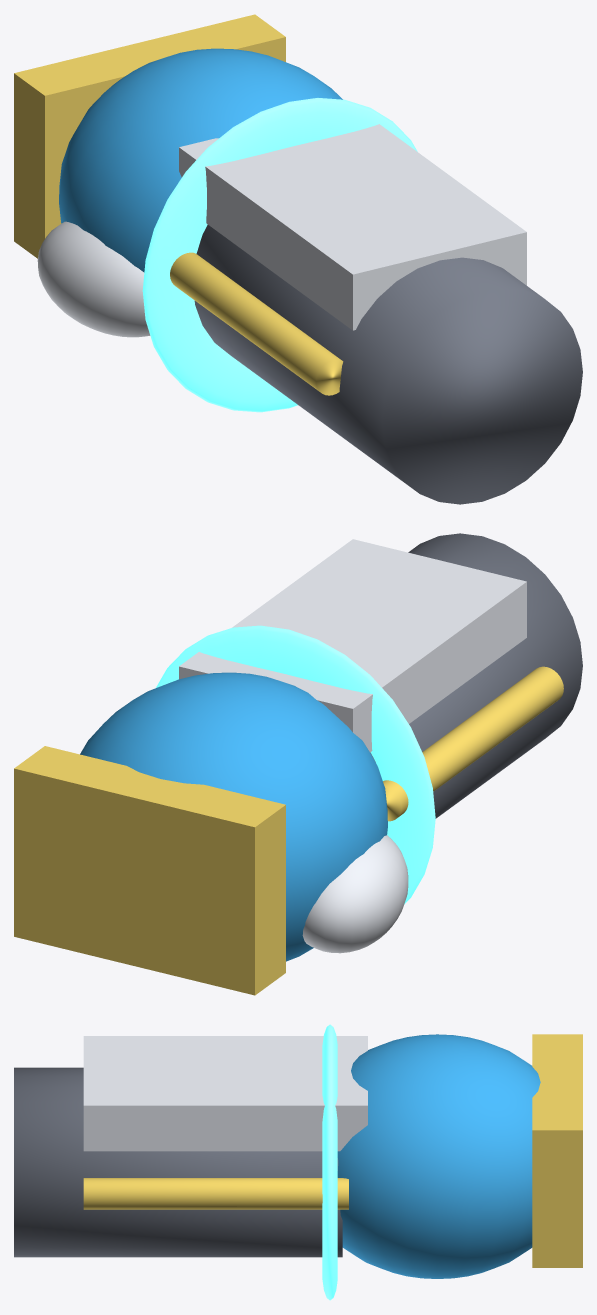
File: puno_jugador.glb
The picture shows the model from 3 angles, top to bottom: view 1: azimuth 30°, elevation 25°; view 2: azimuth 150°, elevation 25°; view 3: azimuth 270°, elevation 25°; orthographic projection. The views are drawn at different scales.
Parts seen in each view (by area): view 1: Antebrazo, Placa_Sup, Guante_Cuerpo, Anillo_Neon, Nudillos_Oro, Pulgar_Guante, Piston_-1; view 2: Nudillos_Oro, Guante_Cuerpo, Placa_Sup, Antebrazo, Anillo_Neon, Pulgar_Guante, Piston_-1; view 3: Guante_Cuerpo, Antebrazo, Placa_Sup, Nudillos_Oro, Piston_1, Anillo_Neon.
Boxes of the visible parts, bbox=[...] form: Antebrazo: bbox=[194, 224, 582, 504]; Placa_Sup: bbox=[179, 124, 526, 330]; Guante_Cuerpo: bbox=[59, 48, 342, 272]; Anillo_Neon: bbox=[142, 98, 417, 412]; Nudillos_Oro: bbox=[14, 14, 285, 258]; Pulgar_Guante: bbox=[37, 221, 150, 337]; Piston_-1: bbox=[170, 252, 343, 395]; Nudillos_Oro: bbox=[14, 746, 285, 995]; Guante_Cuerpo: bbox=[80, 672, 387, 961]; Placa_Sup: bbox=[179, 539, 526, 752]; Antebrazo: bbox=[370, 533, 582, 818]; Anillo_Neon: bbox=[156, 625, 435, 904]; Pulgar_Guante: bbox=[302, 835, 408, 953]; Piston_-1: bbox=[383, 666, 563, 821]; Guante_Cuerpo: bbox=[337, 1034, 540, 1278]; Antebrazo: bbox=[14, 1067, 342, 1257]; Placa_Sup: bbox=[83, 1036, 367, 1151]; Nudillos_Oro: bbox=[532, 1034, 582, 1267]; Piston_1: bbox=[83, 1178, 348, 1209]; Anillo_Neon: bbox=[322, 1024, 337, 1300].
Size of the model in its own units: 0.946 by 0.875 by 1.8.
